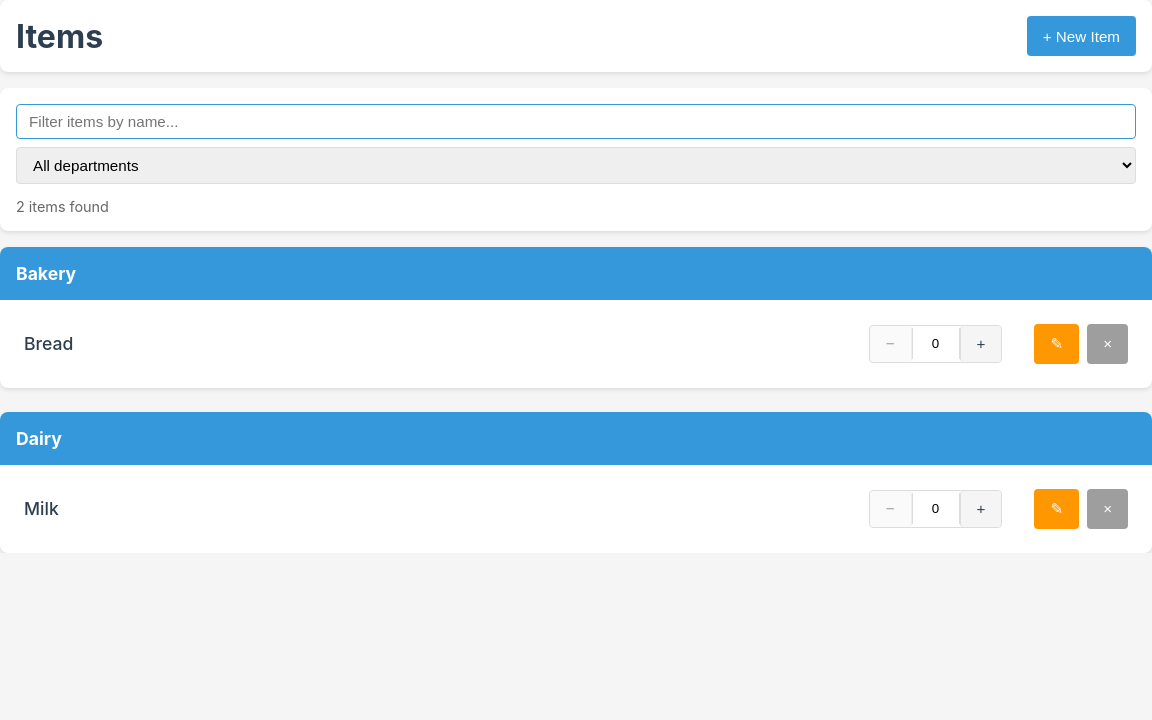
ShoppingListPage › filters item list by department
Expected: the text "Milk" is shown, [24,498,59,519]
Expected: the text "Bread" is shown, [24,333,73,354]
Select "Dairy" in the dropdown named "filter items by department" at point(576, 166), box [16,147,1136,184]
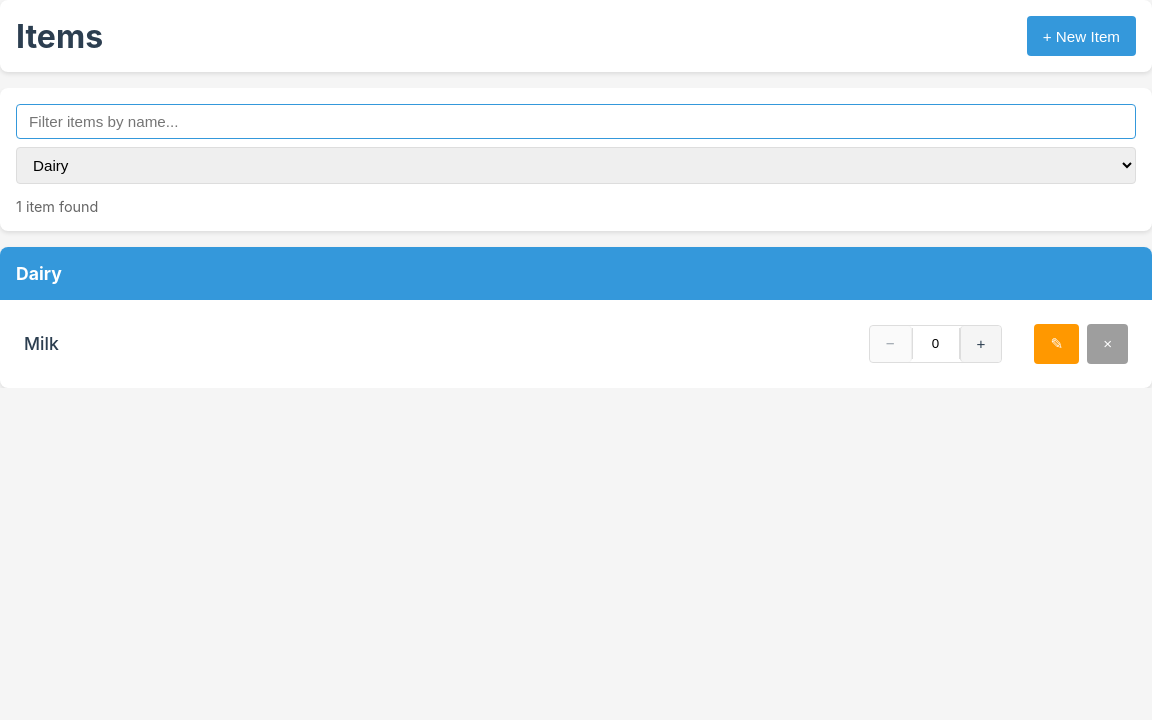
Expected: the text "Milk" is shown, [24,333,59,354]
Now the text "Bread" is gone
Now the text "1 item found" is shown, box [16,198,98,215]
